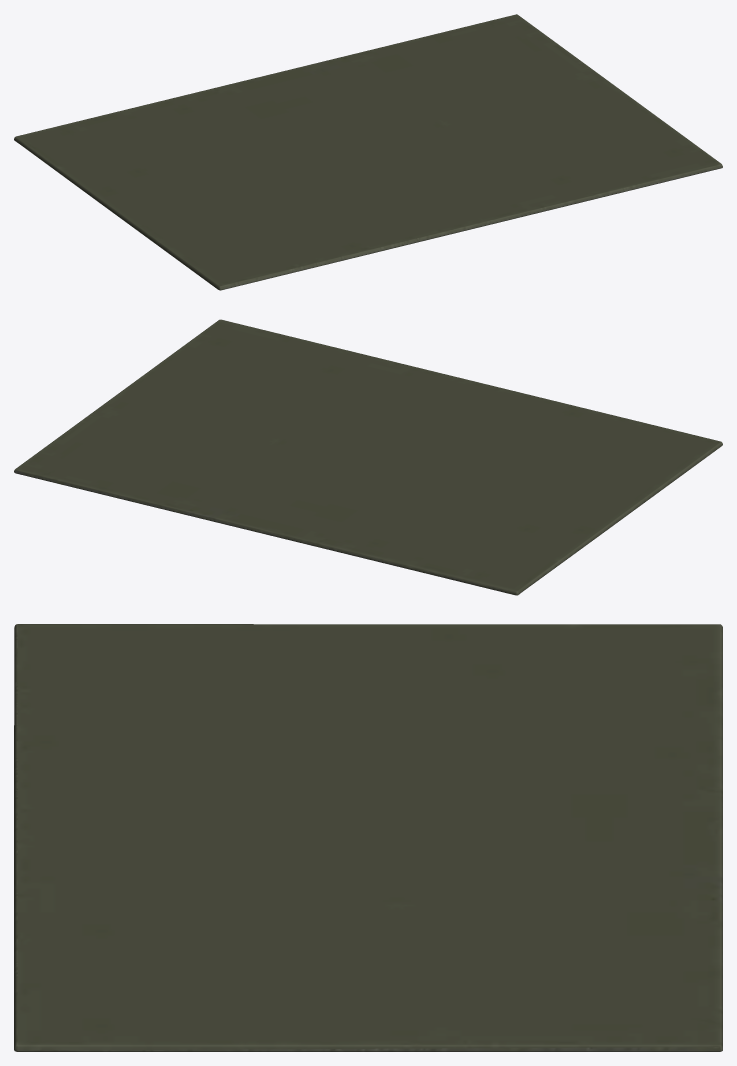
The picture shows the model from 3 angles, top to bottom: view 1: azimuth 30°, elevation 25°; view 2: azimuth 150°, elevation 25°; view 3: azimuth 270°, elevation 25°; orthographic projection. The views are drawn at different scales.
Visible parts, largest first — view 1: ASY_ART_90607688_S01_NV01; view 2: ASY_ART_90607688_S01_NV01; view 3: ASY_ART_90607688_S01_NV01.
Part boxes in pixels (bbox=[...]): ASY_ART_90607688_S01_NV01: bbox=[14, 14, 722, 290]; ASY_ART_90607688_S01_NV01: bbox=[14, 319, 722, 595]; ASY_ART_90607688_S01_NV01: bbox=[14, 624, 722, 1051].
Size of the model in its own units: 2.4 by 0.0164 by 1.7.
Materials: 1 (1 with a texture image).
